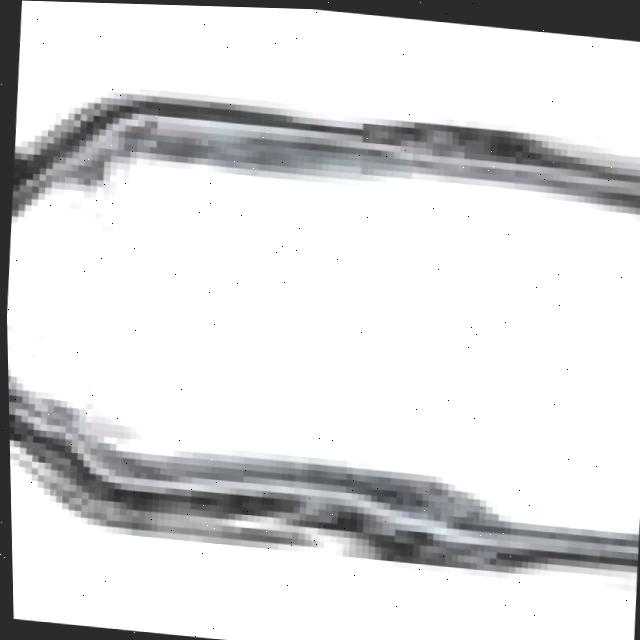glass: (1, 48, 640, 612)
